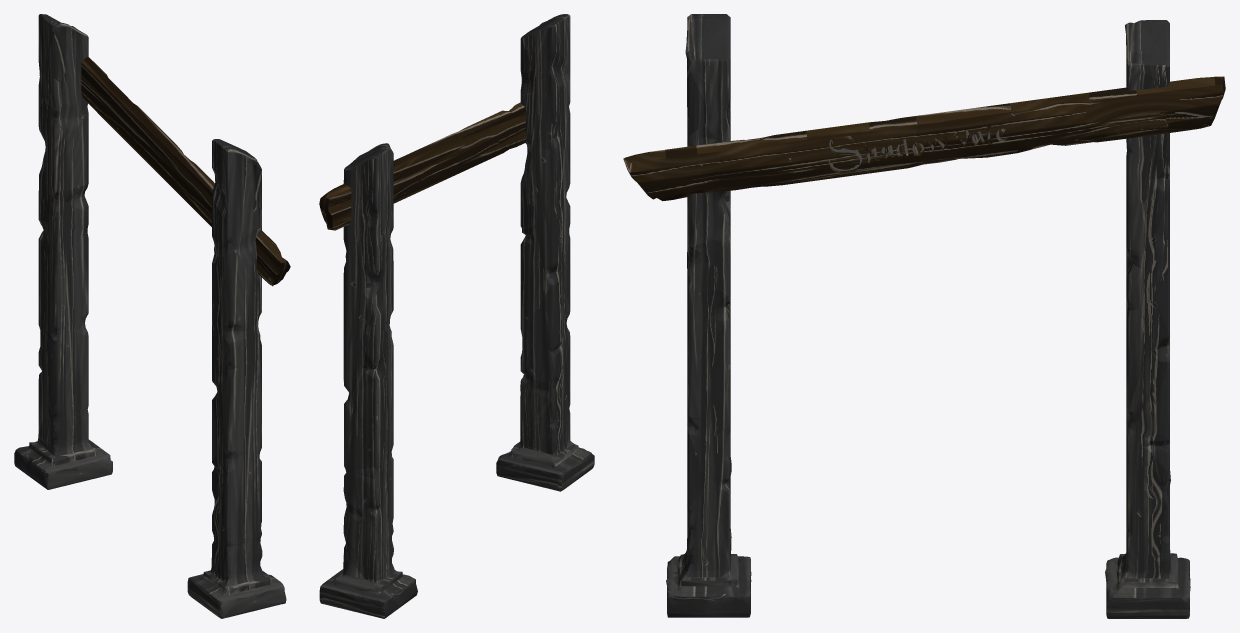
File: board.fbx
The picture shows the model from 3 angles, left to right: view 1: azimuth 30°, elevation 25°; view 2: azimuth 150°, elevation 25°; view 3: azimuth 270°, elevation 25°; orthographic projection. The views are drawn at different scales.
Parts seen in each view (by area): view 1: Cube, Cube.002, Cube.001; view 2: Cube, Cube.002, Cube.001; view 3: Cube.001, Cube, Cube.002.
Boxes of the visible parts, x1,y1,x2,y2 form: Cube: (187, 139, 286, 618); Cube.002: (14, 14, 112, 489); Cube.001: (81, 57, 290, 286); Cube: (496, 14, 594, 491); Cube.002: (319, 143, 417, 618); Cube.001: (319, 102, 525, 230); Cube.001: (623, 76, 1225, 201); Cube: (666, 14, 751, 617); Cube.002: (1105, 20, 1190, 618).
Bounding box in the file's own units: 125 × 806 × 767.
